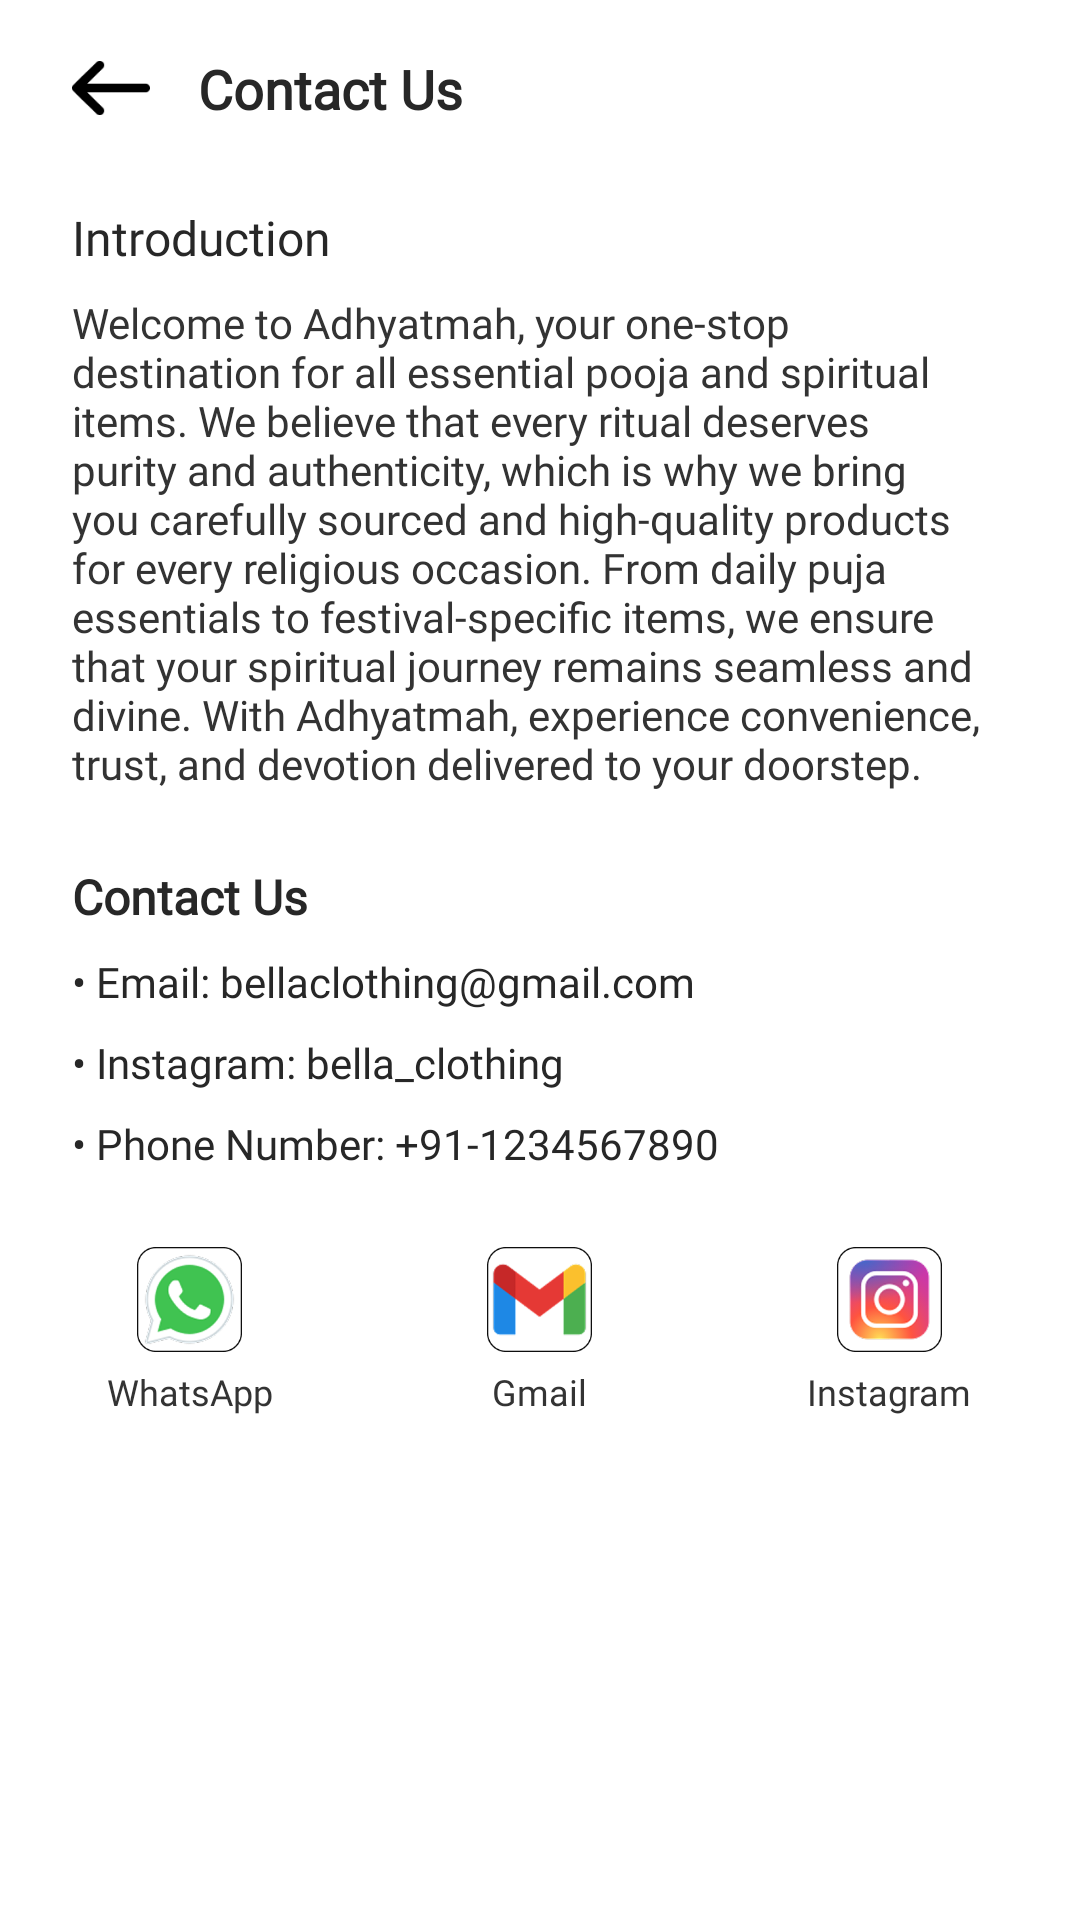

Point at icon controls on the screen. Image size 1080x1920, points as (x=x, y=y).
Back: (x=111, y=88)
